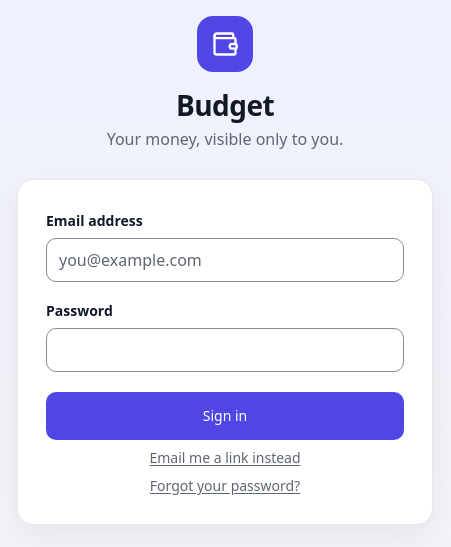
Test: a forgotten password (security-a-02) › asks for a reset link through this browser, and reads as a sent link
Step 1. Type " owner@example.com " into the field labelled "Email address" → (225, 260), box [46,238,404,282]
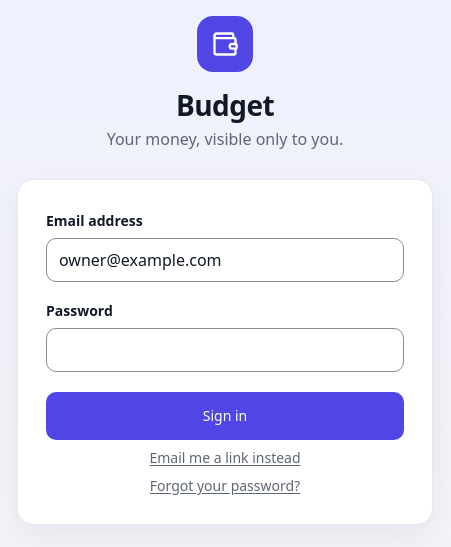
Step 2. Click the button "Forgot your password?" → (225, 486), box [150,476,300,496]
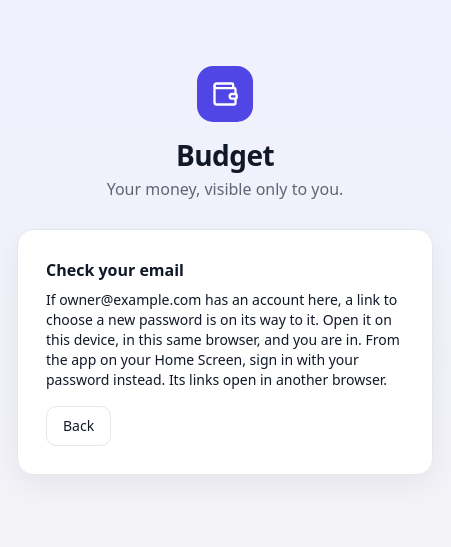
Expected: the heading "Check your email" is shown, [46,258,184,280]
